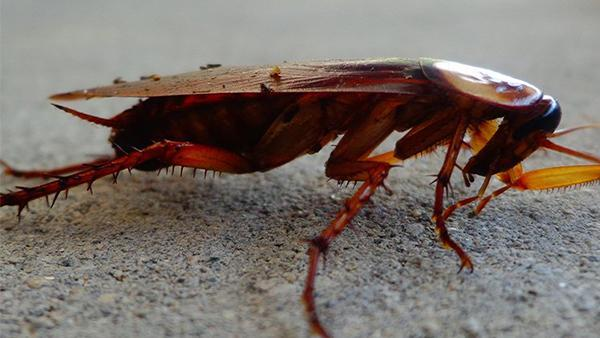cockroach: (47, 52, 569, 210)
